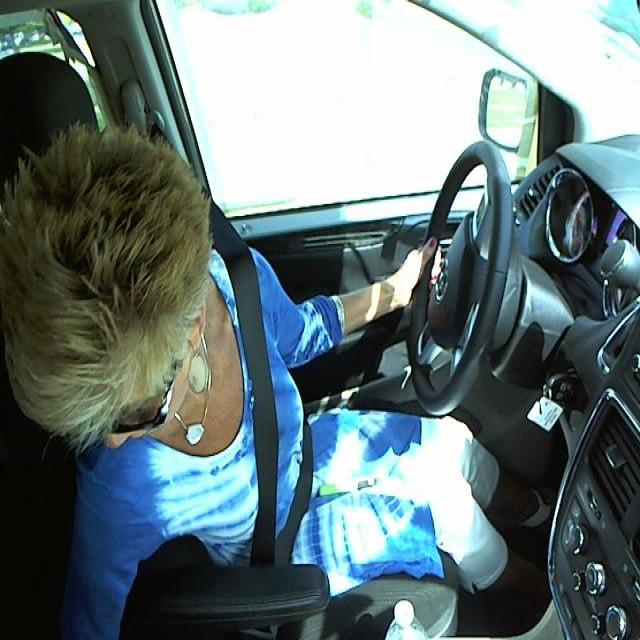seatbelt: (222, 267, 339, 564)
